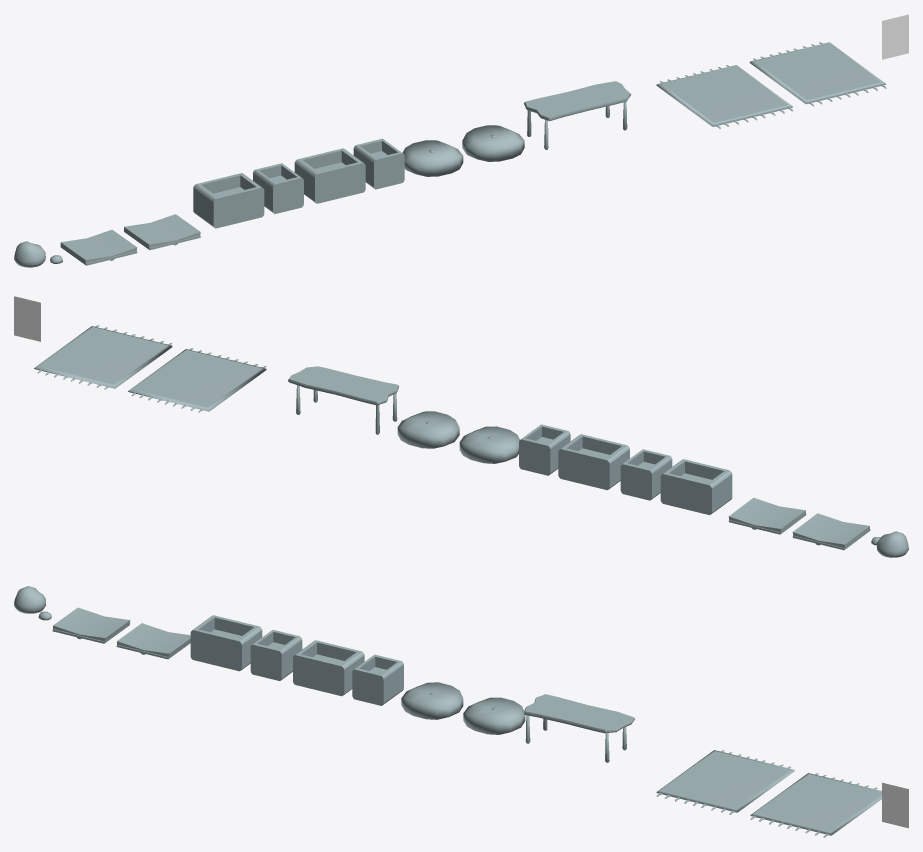
The model's file is misc market decorations.fbx.
3 renders of one model, top to bottom at view 1: azimuth 30°, elevation 25°; view 2: azimuth 150°, elevation 25°; view 3: azimuth 330°, elevation 25°, orthographic.
Parts seen in each view (by area): view 1: rug cream, rug brown, aquatic crate rectangle, land crate rectangle, wooden table, land crate square, aquatic crate square, pillow seat blue, pillow seat red, book brown, book green, aster festival poster plane (+1 smaller); view 2: rug cream, rug brown, aquatic crate rectangle, land crate rectangle, wooden table, aquatic crate square, land crate square, pillow seat blue, pillow seat red, book brown, book green, aster festival poster plane (+1 smaller); view 3: rug brown, rug cream, aquatic crate rectangle, land crate rectangle, wooden table, land crate square, aquatic crate square, pillow seat red, pillow seat blue, book brown, book green, aster festival poster plane (+1 smaller).
Boxes of the visible parts, box(x1,y1,x2,y2) form: rug cream: box(749, 42, 886, 106); rug brown: box(656, 65, 793, 128); aquatic crate rectangle: box(193, 173, 264, 228); land crate rectangle: box(294, 148, 365, 203); wooden table: box(524, 81, 631, 149); land crate square: box(353, 138, 404, 189); aquatic crate square: box(253, 163, 303, 213); pillow seat blue: box(462, 125, 524, 161); pillow seat red: box(402, 140, 463, 176); book brown: box(60, 229, 137, 265); book green: box(124, 214, 200, 249); aster festival poster plane: box(882, 14, 908, 59); rug cream: box(34, 325, 172, 389); rug brown: box(128, 348, 266, 412); aquatic crate rectangle: box(660, 459, 732, 515); land crate rectangle: box(558, 434, 629, 490); wooden table: box(288, 366, 399, 434); aquatic crate square: box(620, 449, 672, 500); land crate square: box(519, 424, 570, 475); pillow seat blue: box(397, 411, 459, 448); pillow seat red: box(459, 426, 519, 463); book brown: box(792, 513, 870, 550); book green: box(728, 497, 806, 534); aster festival poster plane: box(14, 296, 40, 341); rug brown: box(656, 750, 794, 814); rug cream: box(750, 773, 881, 837); aquatic crate rectangle: box(190, 615, 262, 671); land crate rectangle: box(293, 640, 364, 696); wooden table: box(524, 694, 634, 762); land crate square: box(352, 654, 403, 705); aquatic crate square: box(250, 630, 302, 680); pillow seat red: box(401, 682, 463, 719); pillow seat blue: box(463, 697, 525, 734); book brown: box(52, 607, 130, 643); book green: box(116, 623, 190, 659); aster festival poster plane: box(882, 782, 908, 828).
Size of the model in its own units: 1558 by 66.67 by 194.
